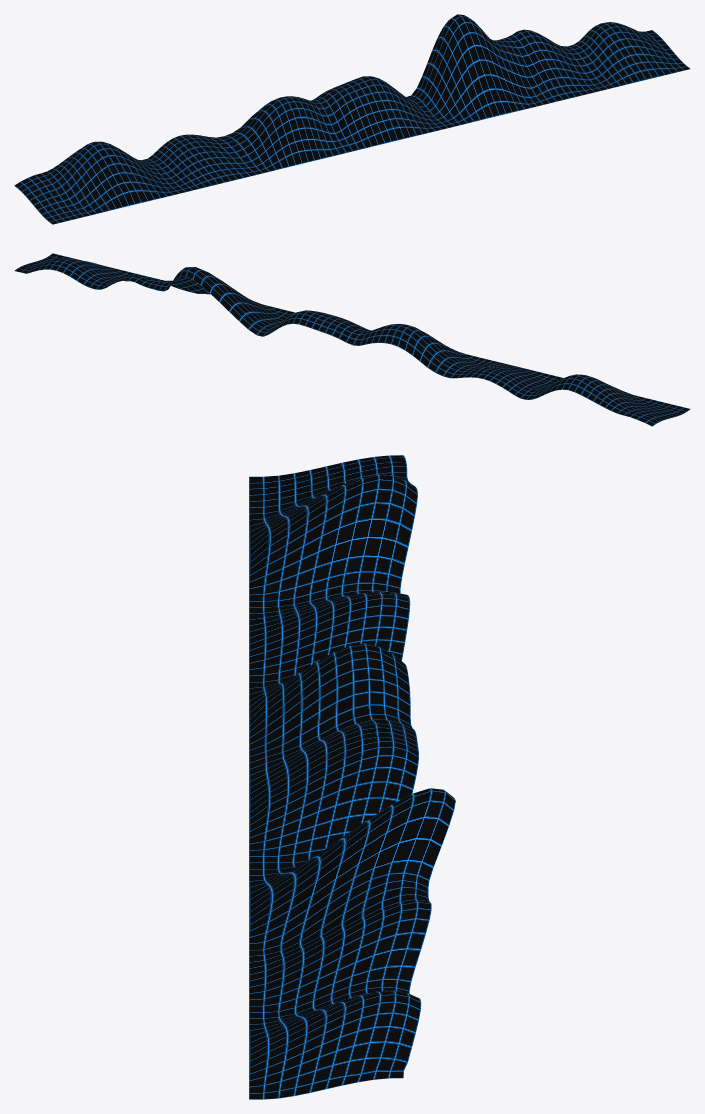
The model's file is SynthwaveTerrain_Distant.glb.
3 views of the same model, one above another, from view 1: azimuth 30°, elevation 25°; view 2: azimuth 150°, elevation 25°; view 3: azimuth 270°, elevation 25° (orthographic). The views are drawn at different scales.
Parts seen in each view (by area): view 1: Plane; view 2: Plane; view 3: Plane.
Part boxes in pixels (x1,y1,x2,y2): Plane: (14,14,690,224); Plane: (14,253,690,426); Plane: (249,455,455,1099).
Bounding box in the file's own units: 100 × 9.66 × 14.04.
Materials: 1 (1 with a texture image).
